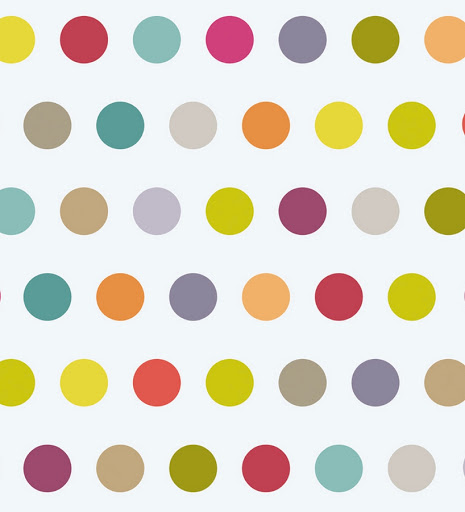circ: (14, 440, 78, 499), (271, 355, 334, 413), (54, 352, 114, 412), (234, 270, 297, 327), (344, 354, 404, 413), (54, 13, 115, 70), (128, 13, 187, 71), (88, 99, 151, 153), (346, 184, 405, 241), (130, 353, 186, 413), (53, 185, 115, 239), (200, 13, 260, 68), (381, 441, 441, 496), (161, 99, 222, 153), (90, 271, 151, 325), (236, 100, 298, 153), (309, 269, 367, 325), (383, 269, 441, 325), (200, 355, 259, 410), (309, 442, 368, 497), (309, 100, 369, 154), (382, 99, 442, 153), (163, 442, 223, 496), (344, 14, 406, 66), (199, 186, 261, 238), (92, 441, 149, 497), (18, 270, 76, 325), (164, 271, 222, 326), (274, 186, 334, 239), (237, 442, 294, 497), (274, 13, 332, 67), (127, 186, 185, 239), (19, 100, 76, 152), (418, 353, 465, 411), (420, 184, 465, 241), (419, 13, 465, 66), (1, 351, 37, 412), (1, 13, 39, 68), (1, 185, 36, 238)
